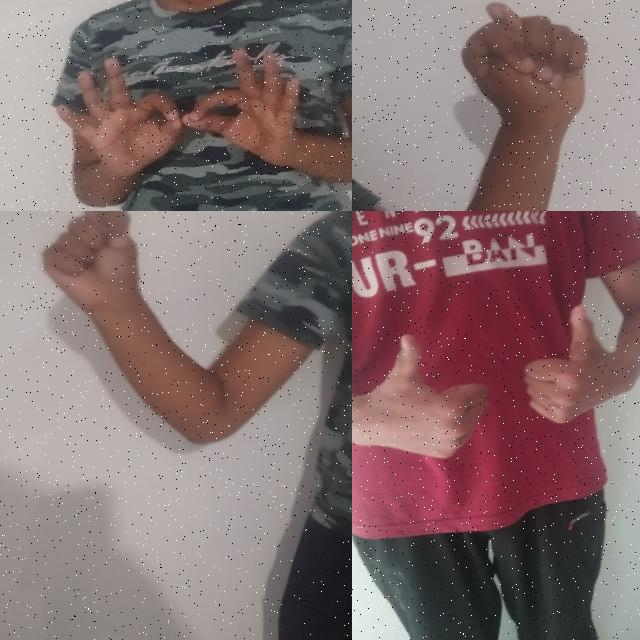Dulya: (444, 0, 610, 169), (28, 211, 159, 345)
Okay: (41, 40, 196, 200), (170, 31, 316, 180)
Thumbs Up: (352, 323, 494, 471), (510, 295, 628, 435)
